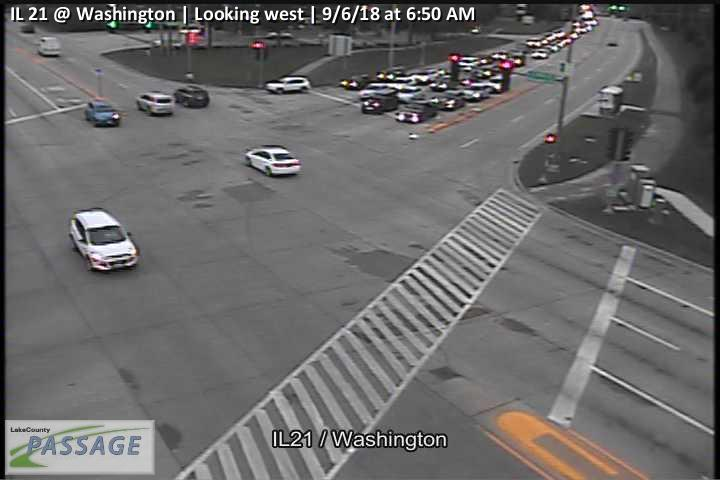SUV: (136, 91, 176, 115)
Sedan: (68, 208, 141, 273), (241, 143, 301, 176), (83, 99, 120, 127), (265, 75, 310, 95), (175, 84, 210, 108), (394, 102, 433, 123), (336, 72, 370, 91)
